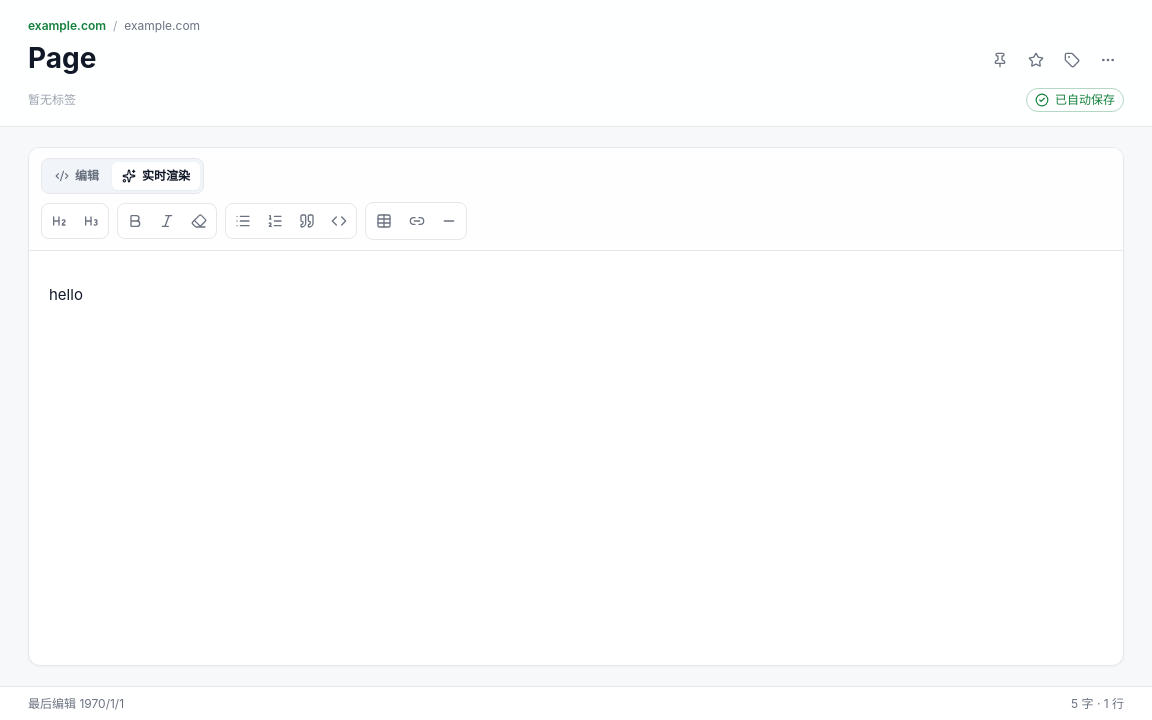
Test: EditorPanel editor lifecycle › opens a more menu with useful page actions
The width and height of the screenshot is (1152, 720).
Step 1. Click the button named "更多操作" → (1108, 60), box [1092,44,1124,76]
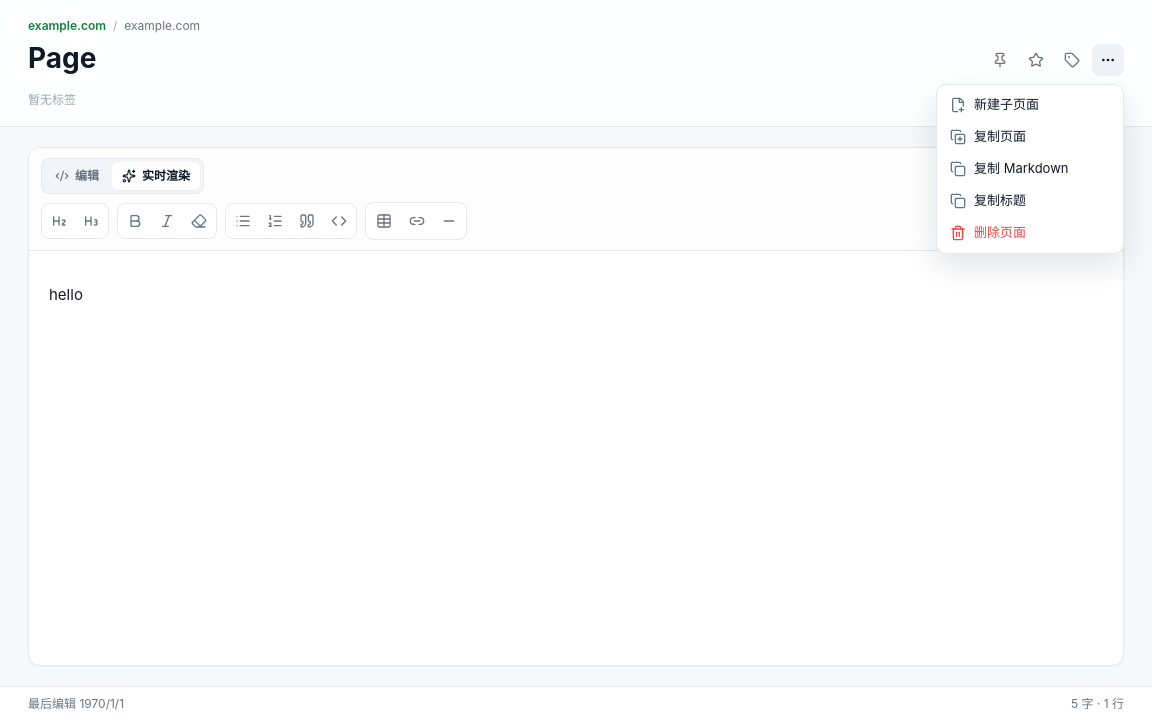
Expected: the menu item "新建子页面" is shown, [941,89,1119,121]
Expected: the menu item "复制 Markdown" is shown, [941,153,1119,185]
Expected: the menu item "复制页面" is shown, [941,121,1119,153]
